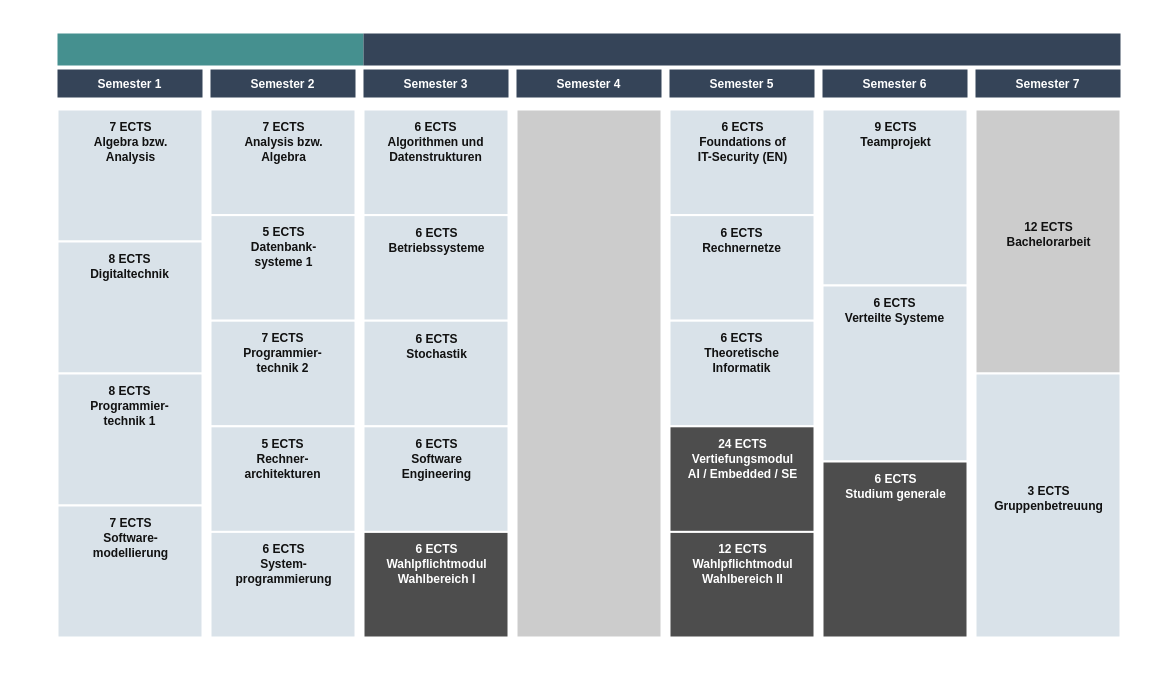
Image size: 1154x674. Some labels were removed from this diagram. Here are the shapes that lost their labels. From the top down, the centre of each, then its label:
the point at 210,49: Grundstudium
the point at 741,49: Hauptstudium
the point at 588,373: 30 ECTS Praxissemester
